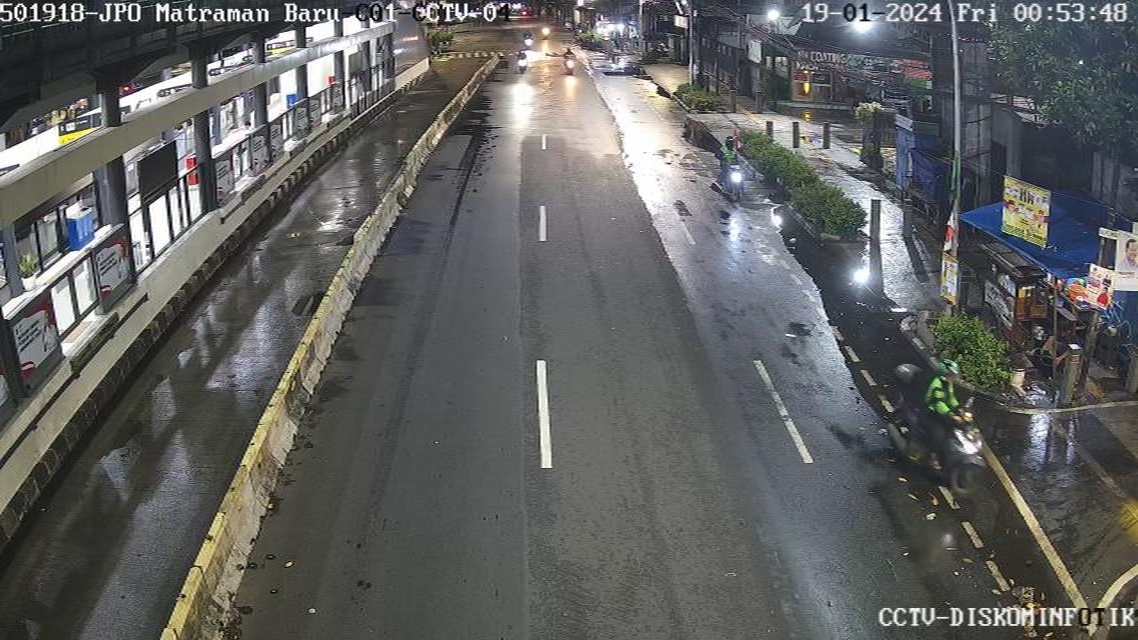Gerobak: (966, 251, 1047, 373)
